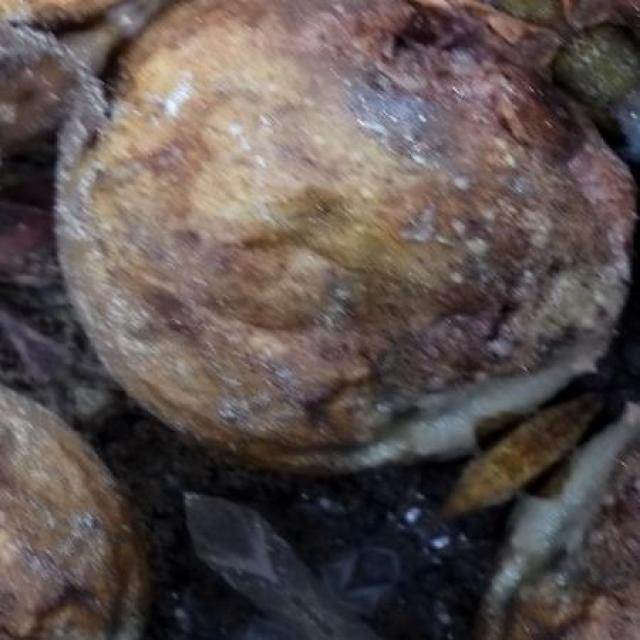Phytopthora: (0, 0, 635, 472), (482, 406, 640, 640), (0, 386, 144, 639)
